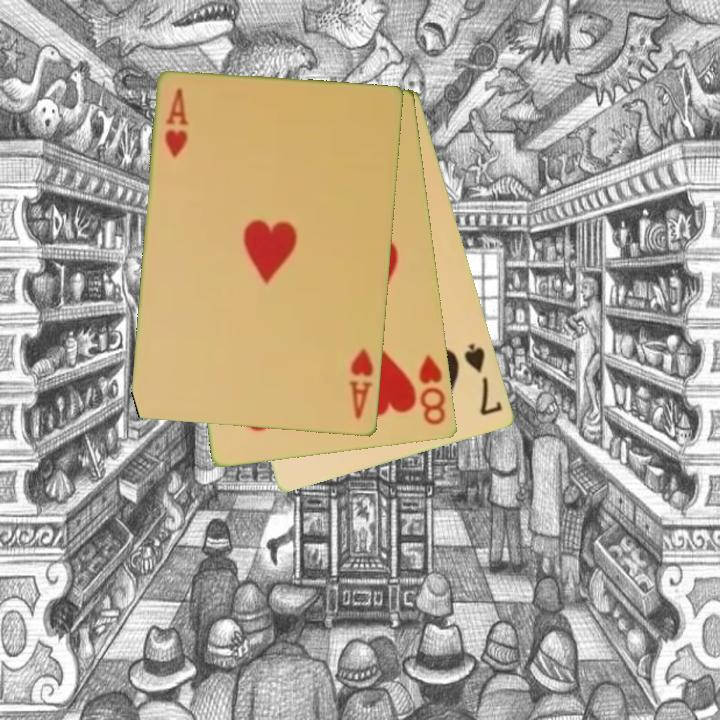7s: (461, 340, 506, 419)
8h: (416, 352, 449, 428)
Ah: (346, 345, 377, 423), (161, 85, 192, 161)
